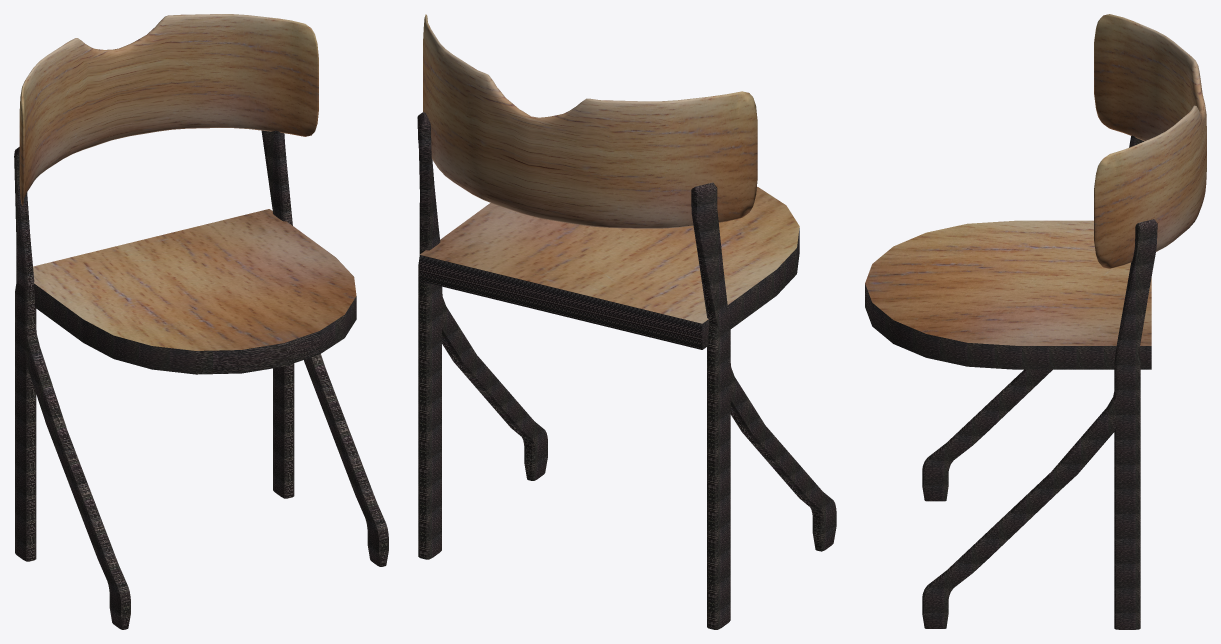
The model's file is ChaiseTD.fbx.
The picture shows the model from 3 angles, left to right: view 1: azimuth 30°, elevation 25°; view 2: azimuth 150°, elevation 25°; view 3: azimuth 270°, elevation 25°; orthographic projection. The views are drawn at different scales.
Visible parts, largest first — view 1: pCube2, pCylinder5, pCube5_pCube6_pCube6_pCube10, pCube5_pCube6_pCube6_pCube8; view 2: pCylinder5, pCube2, pCube5_pCube6_pCube6_pCube10, pCube5_pCube6_pCube6_pCube8; view 3: pCube2, pCylinder5, pCube5_pCube6_pCube6_pCube8, pCube5_pCube6_pCube6_pCube10.
Boxes of the visible parts, x1,y1,x2,y2 form: pCube2: [33, 209, 356, 374]; pCylinder5: [19, 14, 318, 205]; pCube5_pCube6_pCube6_pCube10: [14, 147, 130, 629]; pCube5_pCube6_pCube6_pCube8: [261, 130, 388, 566]; pCylinder5: [423, 14, 757, 228]; pCube2: [419, 187, 799, 349]; pCube5_pCube6_pCube6_pCube10: [691, 182, 836, 629]; pCube5_pCube6_pCube6_pCube8: [417, 112, 547, 559]; pCube2: [865, 220, 1151, 369]; pCylinder5: [1094, 14, 1206, 268]; pCube5_pCube6_pCube6_pCube8: [922, 219, 1157, 629]; pCube5_pCube6_pCube6_pCube10: [922, 135, 1143, 501].
Bounding box in the file's own units: 5.27 × 8.05 × 5.19.
